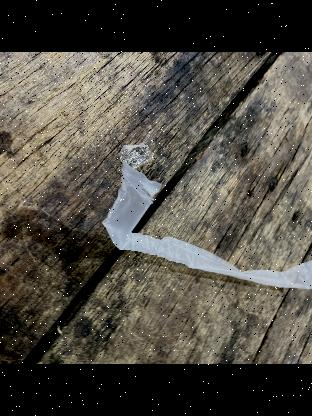Others: (105, 172, 312, 294), (115, 138, 149, 172)
